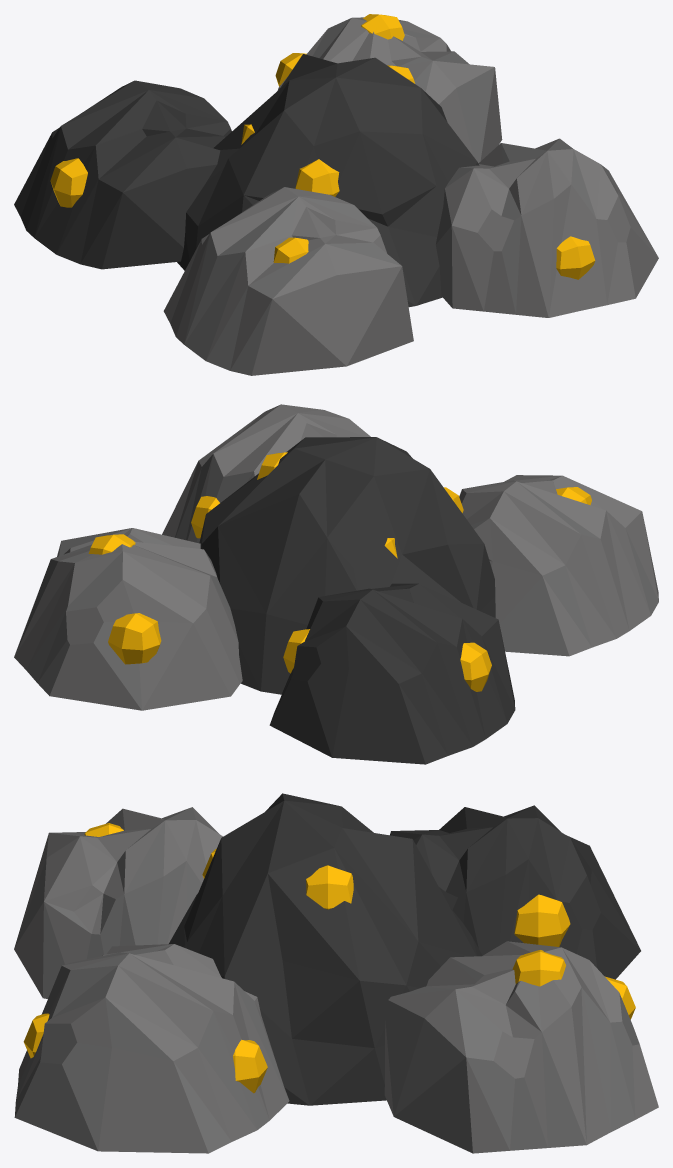
Rendered from stone_gold_1.fbx.
The picture shows the model from 3 angles, top to bottom: view 1: azimuth 30°, elevation 25°; view 2: azimuth 150°, elevation 25°; view 3: azimuth 270°, elevation 25°; orthographic projection. The views are drawn at different scales.
Parts seen in each view (by area): view 1: Cube, Cube.001, Cube.004, Cube.003, Cube.002, Cube.013, Cube.015, Cube.007, Cube.010, Cube.009; view 2: Cube, Cube.003, Cube.002, Cube.001, Cube.004, Cube.011, Cube.013, Cube.010, Cube.014, Cube.012; view 3: Cube, Cube.002, Cube.004, Cube.001, Cube.003, Cube.012, Cube.005, Cube.010, Cube.014, Cube.015.
Part boxes in pixels (x1,y1,x2,y2): Cube: (177, 54, 479, 307); Cube.001: (163, 187, 413, 375); Cube.004: (436, 138, 658, 317); Cube.003: (14, 80, 231, 269); Cube.002: (277, 17, 502, 162); Cube.013: (50, 158, 87, 207); Cube.015: (556, 236, 595, 279); Cube.007: (295, 159, 339, 196); Cube.010: (361, 14, 404, 40); Cube.009: (273, 237, 308, 263); Cube: (199, 437, 495, 694); Cube.003: (269, 583, 515, 764); Cube.002: (14, 528, 242, 710); Cube.001: (459, 475, 658, 656); Cube.004: (162, 404, 370, 543); Cube.011: (108, 613, 161, 664); Cube.013: (460, 642, 491, 691); Cube.010: (88, 534, 135, 554); Cube.014: (191, 496, 219, 538); Cube.012: (283, 629, 309, 673); Cube: (169, 793, 482, 1105); Cube.002: (384, 941, 658, 1153); Cube.004: (14, 944, 289, 1153); Cube.001: (14, 807, 222, 998); Cube.003: (390, 805, 640, 979); Cube.012: (514, 894, 570, 946); Cube.005: (306, 865, 353, 909); Cube.010: (512, 950, 565, 986); Cube.014: (233, 1039, 267, 1093); Cube.015: (23, 1013, 49, 1058).
Size of the model in its own units: 88.71 by 34.75 by 93.84.
